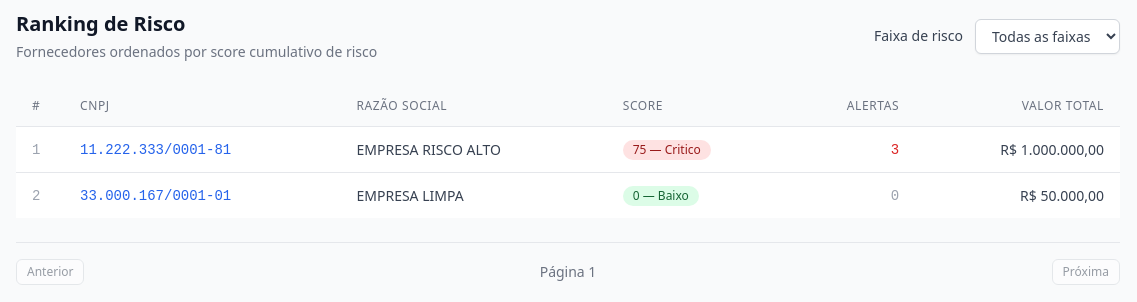
Test: Ranking › filters by faixa de risco client-side
The image size is (1137, 302).
Expected: the text "EMPRESA RISCO ALTO" is shown, [356, 140, 501, 158]
Select "Crítico" in the dropdown at (1048, 36), box [975, 18, 1120, 54]
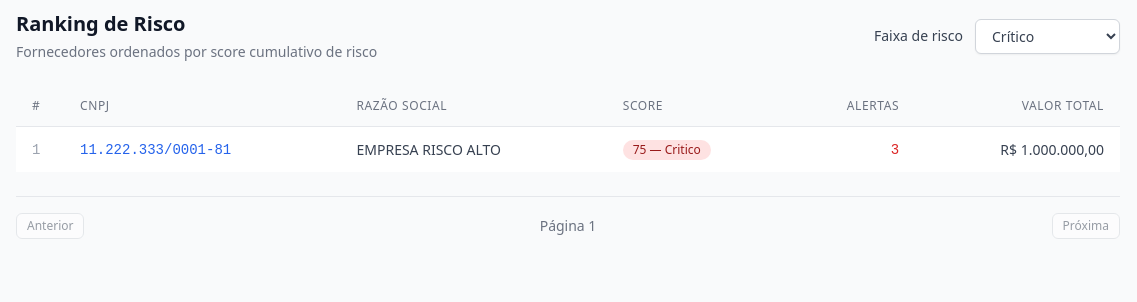
Expected: the text "EMPRESA RISCO ALTO" is shown, [356, 140, 501, 158]
Result: the text "EMPRESA LIMPA" is gone
